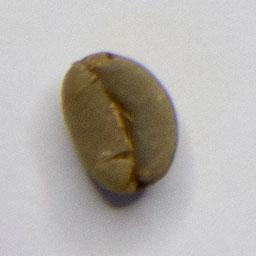premium: (58, 47, 183, 200)
